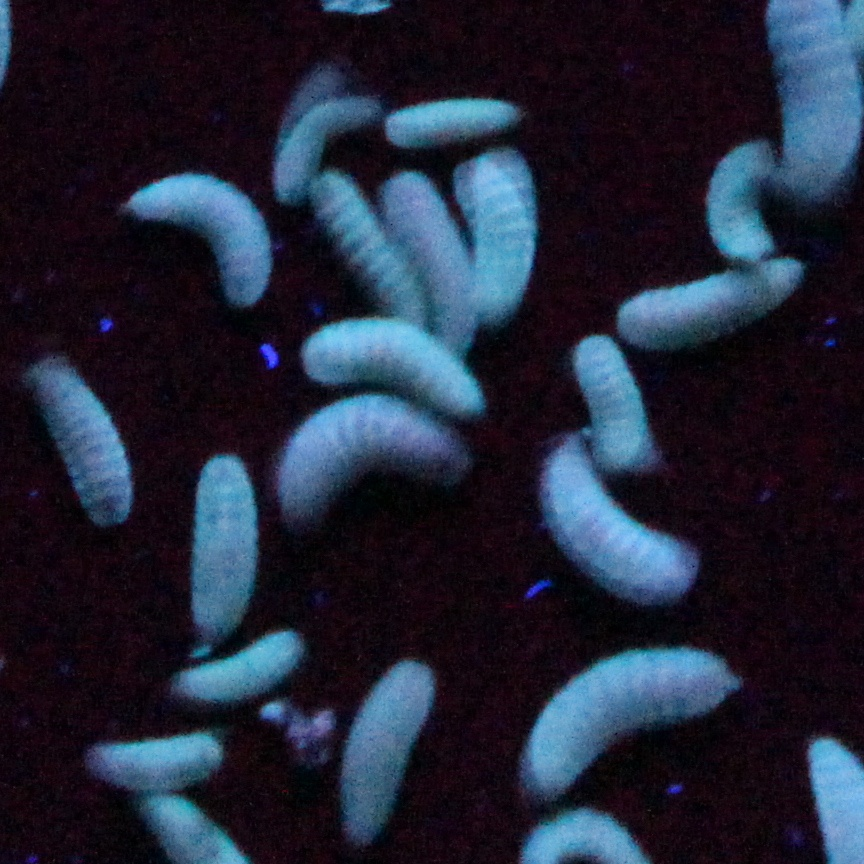larve: (524, 648, 738, 791), (277, 391, 456, 527), (542, 462, 693, 595), (32, 362, 136, 536), (618, 252, 813, 342), (134, 180, 271, 307), (340, 662, 436, 840), (324, 174, 432, 329), (391, 180, 489, 344), (309, 331, 483, 415), (183, 448, 256, 642), (465, 170, 544, 319), (573, 327, 652, 470), (173, 638, 313, 713), (279, 89, 367, 201), (701, 146, 771, 266), (95, 729, 228, 787), (385, 97, 522, 150)
